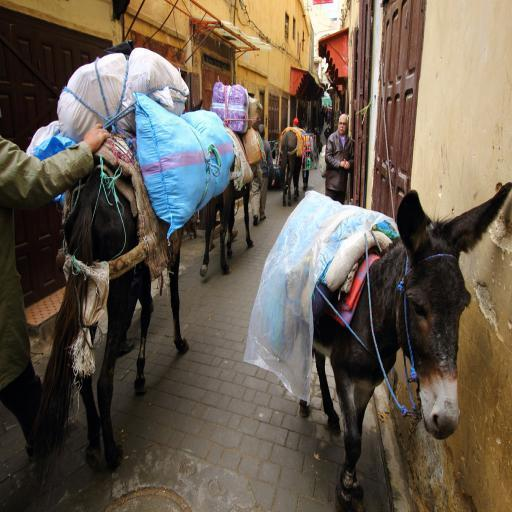horse: (35, 165, 191, 469), (200, 128, 254, 274), (274, 124, 308, 204)
